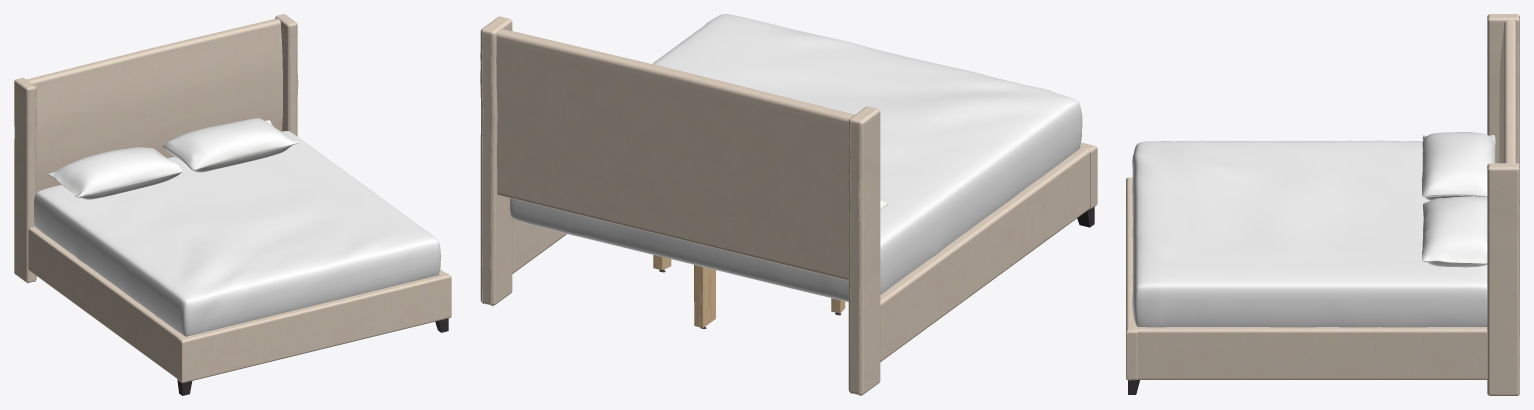
File: B075QBL1V8.glb
3 renders of one model, left to right at view 1: azimuth 30°, elevation 25°; view 2: azimuth 150°, elevation 25°; view 3: azimuth 270°, elevation 25°, orthographic. The views are drawn at different scales.
Parts seen in each view (by area): view 1: RootNode; view 2: RootNode; view 3: RootNode.
Boxes of the visible parts, box(x1,y1,x2,y2) form: RootNode: box(14, 14, 451, 395); RootNode: box(480, 14, 1097, 395); RootNode: box(1126, 14, 1519, 395).
Size of the model in its own units: 2.14 by 1.47 by 2.29.
Materials: 1 (1 with a texture image).
